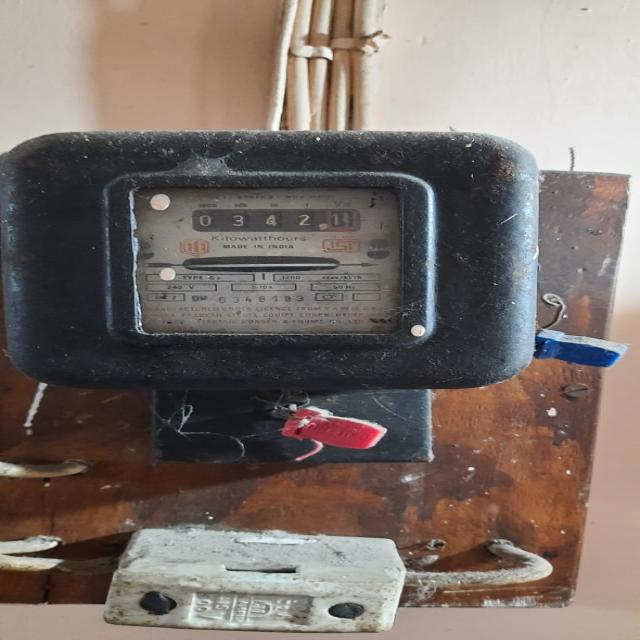display: (193, 206, 369, 232)
